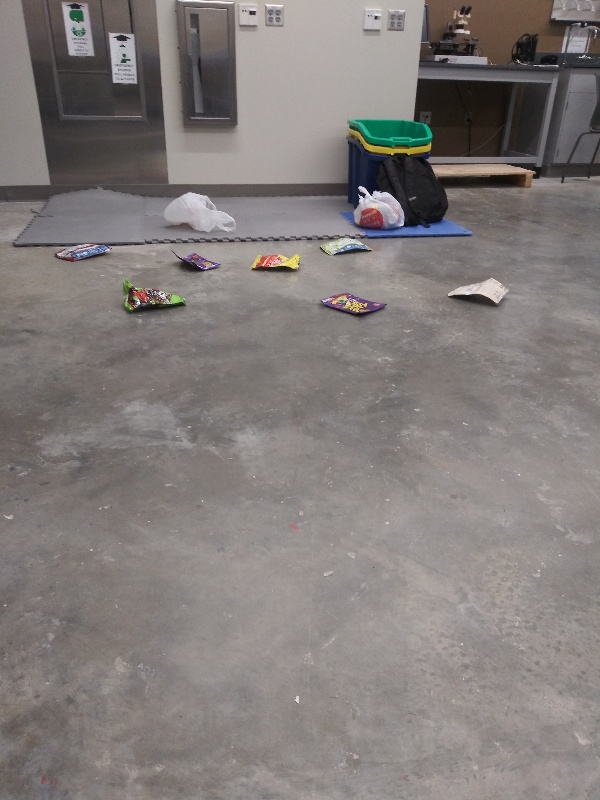bag: (119, 278, 193, 315), (444, 275, 512, 310), (315, 290, 392, 318), (52, 239, 113, 265), (167, 245, 223, 270), (318, 235, 376, 257), (247, 251, 305, 272)
